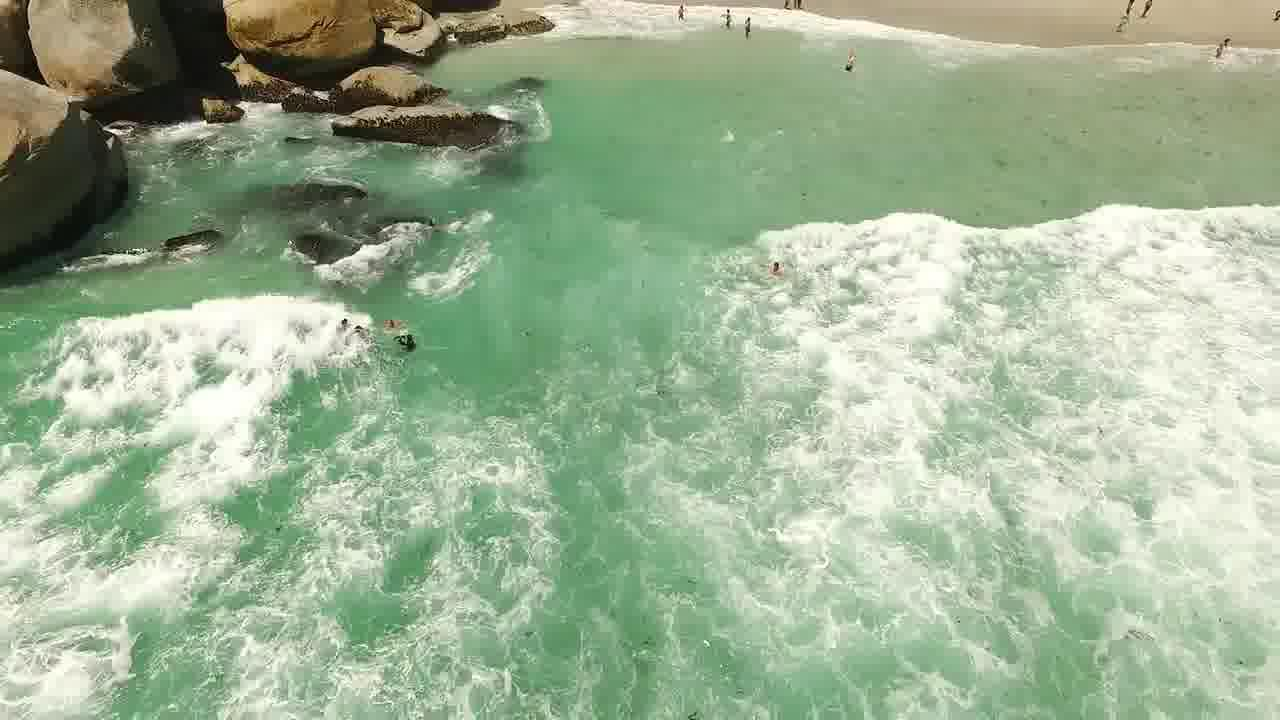swimmer: (749, 248, 802, 285), (380, 308, 418, 332), (344, 316, 374, 340), (330, 313, 354, 339)
